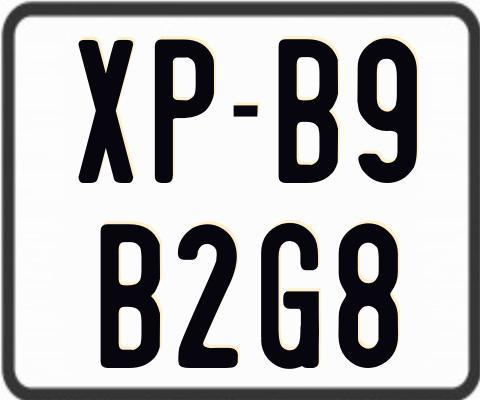2: (175, 222, 239, 367)
8: (336, 222, 398, 373)
9: (356, 36, 417, 184)
B: (276, 39, 339, 185), (98, 222, 158, 368)
G: (259, 223, 319, 375)
P: (153, 39, 212, 189)
X: (78, 37, 136, 180)
